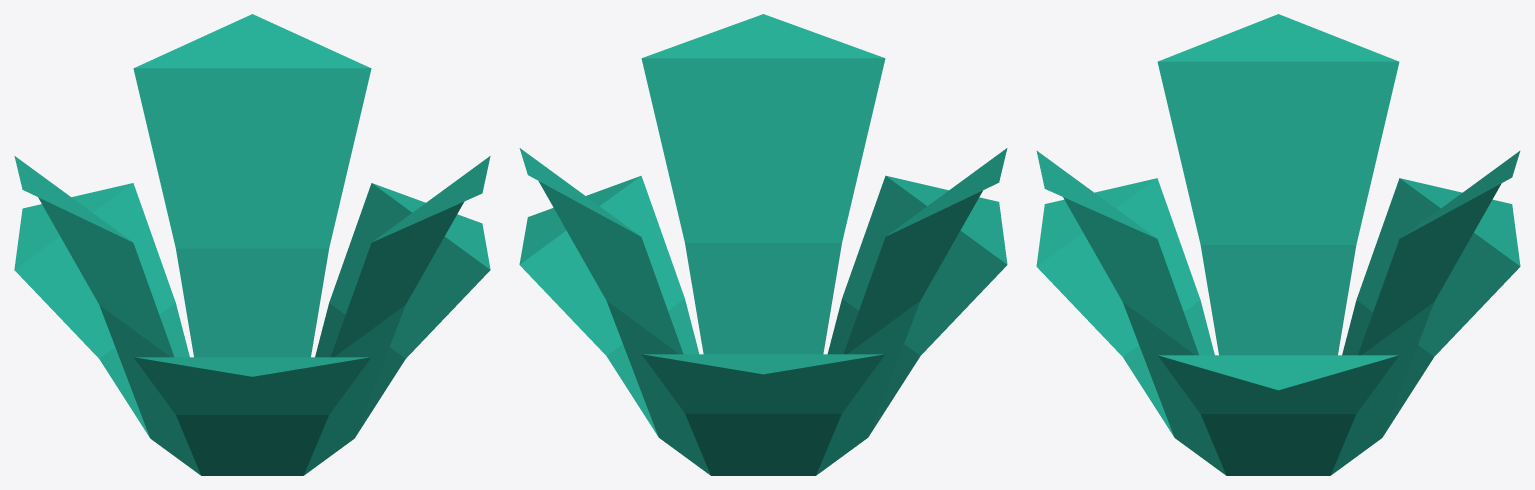
The model's file is plant_bushLarge.glb.
3 views of the same model, side by side, from view 1: azimuth 30°, elevation 25°; view 2: azimuth 150°, elevation 25°; view 3: azimuth 270°, elevation 25° (orthographic). The views are drawn at different scales.
Visible parts, largest first — view 1: plant_bushLarge; view 2: plant_bushLarge; view 3: plant_bushLarge.
Part boxes in pixels (<box>): plant_bushLarge: <box>14,14,490,475</box>; plant_bushLarge: <box>519,14,1007,475</box>; plant_bushLarge: <box>1036,14,1520,475</box>.
Bounding box in the file's own units: 0.3743 × 0.2429 × 0.3357.
